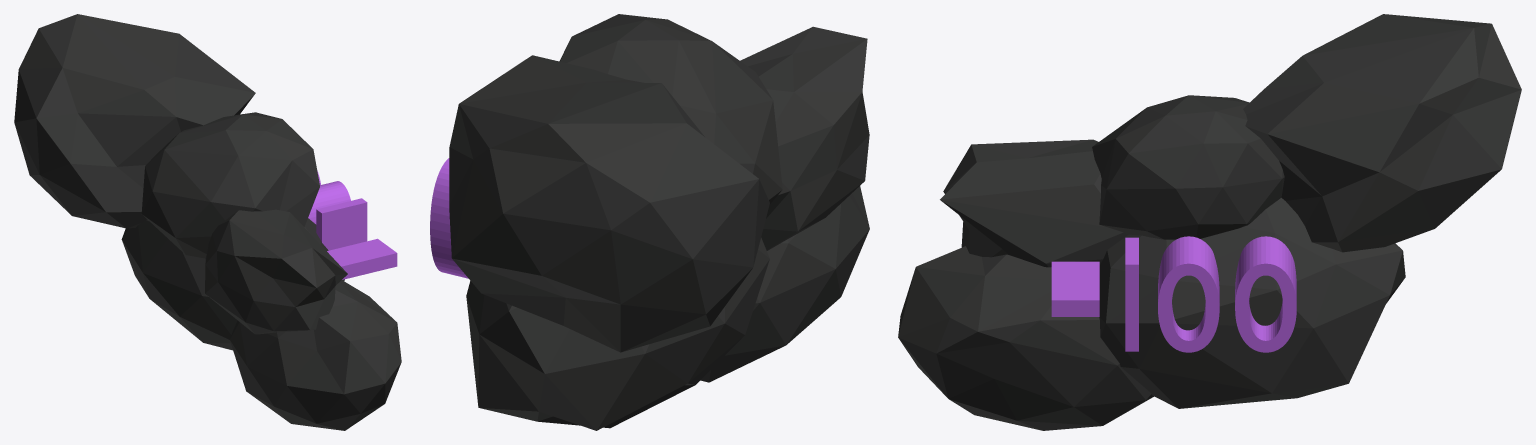
3 views of the same model, side by side, from view 1: azimuth 30°, elevation 25°; view 2: azimuth 150°, elevation 25°; view 3: azimuth 270°, elevation 25° (orthographic). The views are drawn at different scales.
Visible parts, largest first — view 1: Icosphere.167, Text.064, Text.063, Text.065; view 2: Icosphere.167, Text.066; view 3: Icosphere.167, Text.066, Text.065, Text.063, Text.064.
Boxes of the visible parts, x1,y1,x2,y2 form: Icosphere.167: [14, 14, 401, 430]; Text.064: [316, 198, 367, 250]; Text.063: [327, 238, 397, 279]; Text.065: [308, 181, 350, 224]; Icosphere.167: [449, 14, 869, 430]; Text.066: [430, 158, 468, 278]; Icosphere.167: [898, 14, 1521, 430]; Text.066: [1235, 236, 1296, 352]; Text.065: [1158, 236, 1219, 352]; Text.063: [1051, 261, 1099, 316]; Text.064: [1125, 237, 1138, 351].
Bounding box in the file's own units: 68.73 × 82.16 × 128.
